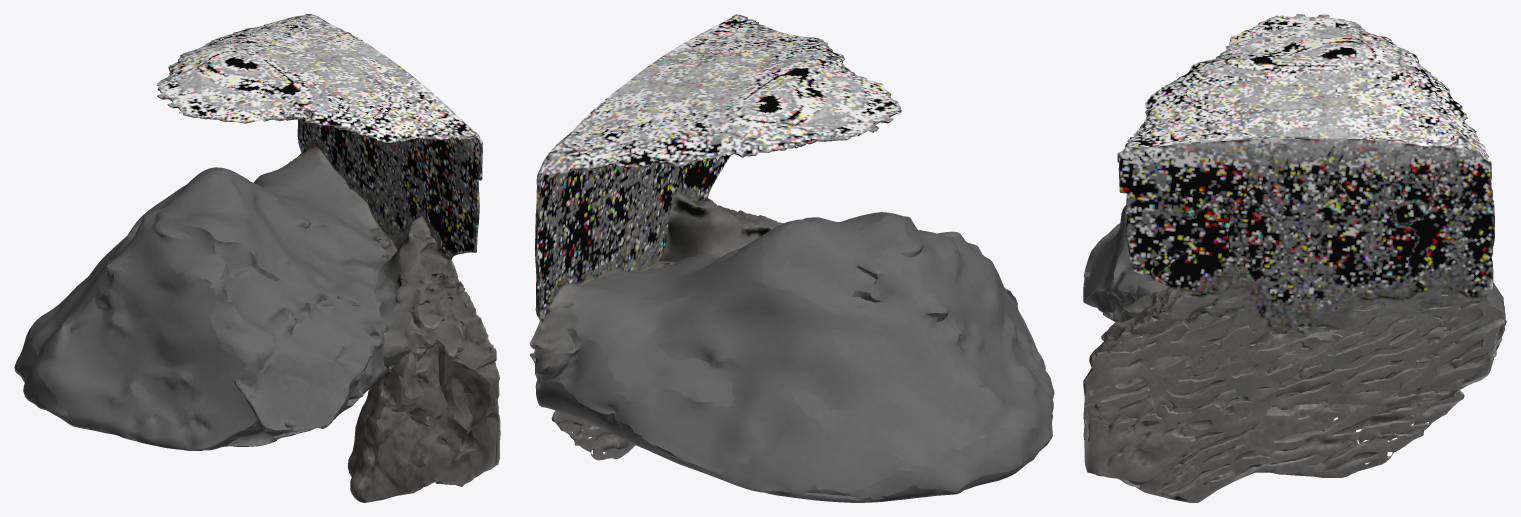
The picture shows the model from 3 angles, left to right: view 1: azimuth 30°, elevation 25°; view 2: azimuth 150°, elevation 25°; view 3: azimuth 270°, elevation 25°; orthographic projection. The views are drawn at different scales.
Visible parts, largest first — view 1: world; view 2: world; view 3: world.
Boxes of the visible parts, x1,y1,x2,y2 form: world: (14,14,500,502); world: (529,14,1054,502); world: (1083,14,1506,502).
Bounding box in the file's own units: 1.2 × 1.21 × 1.2.
1 material, 1 textured.
